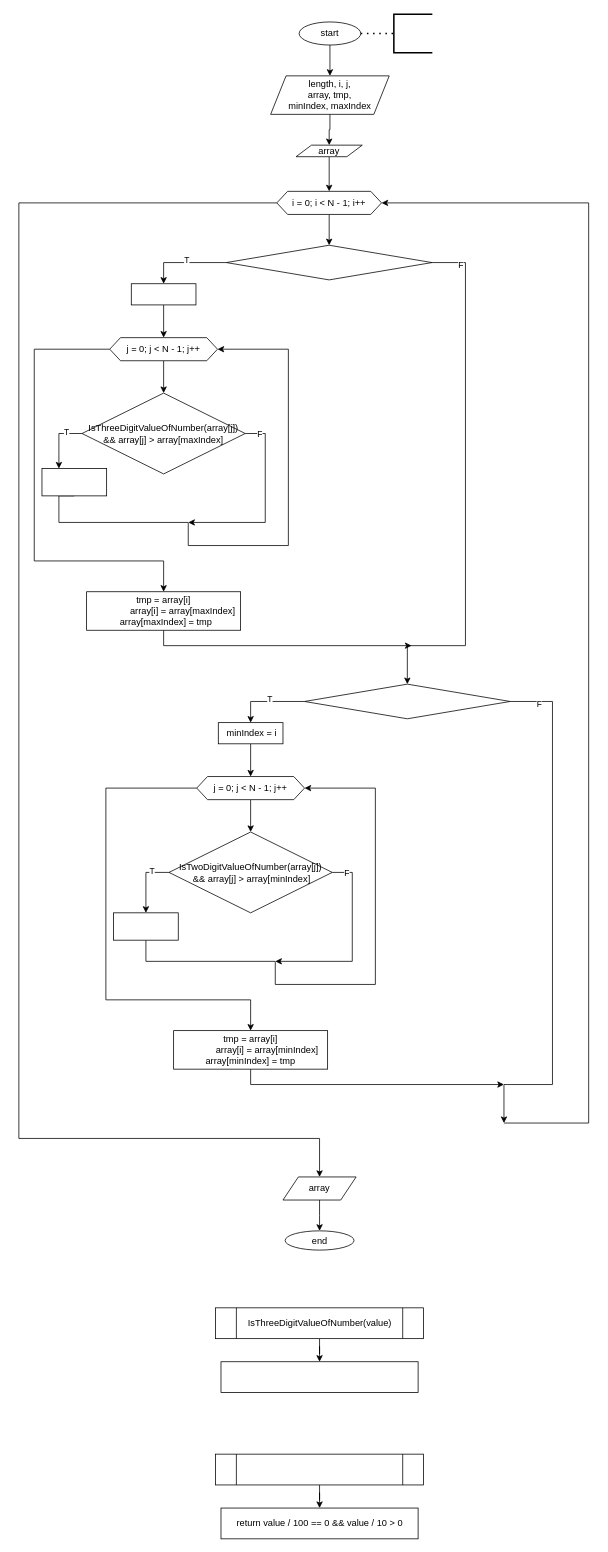
This 608x1552 diagram has some shape labels left out. Here are the shapes that lost their labels. From the top down, the centre of each, then its label:
the point at 413,33: IsThreeDigitValueOfNumber(value) IsTwoDigitValueOfNumber(value)
the point at 329,262: IsThreeDigitValueOfNumber(array[i])
the point at 163,294: maxIndex = i
the point at 74,482: maxIndex = j
the point at 407,701: IsTwoDigitValueOfNumber(array[i])
the point at 145,926: minIndex = j
the point at 319,1377: return value / 100 > 0 && value / 1000 == 0
the point at 319,1469: IsTwoDigitValueOfNumber(value)
